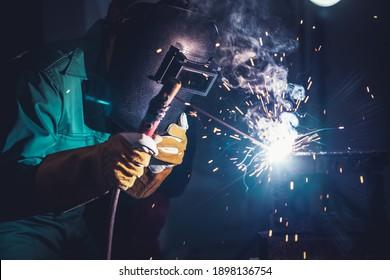gloves: (40, 133, 163, 216), (123, 112, 188, 197)
